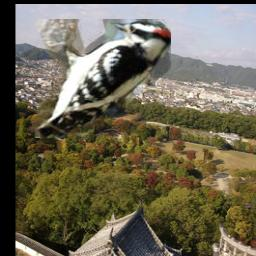Woodpecker: (36, 20, 172, 139)
